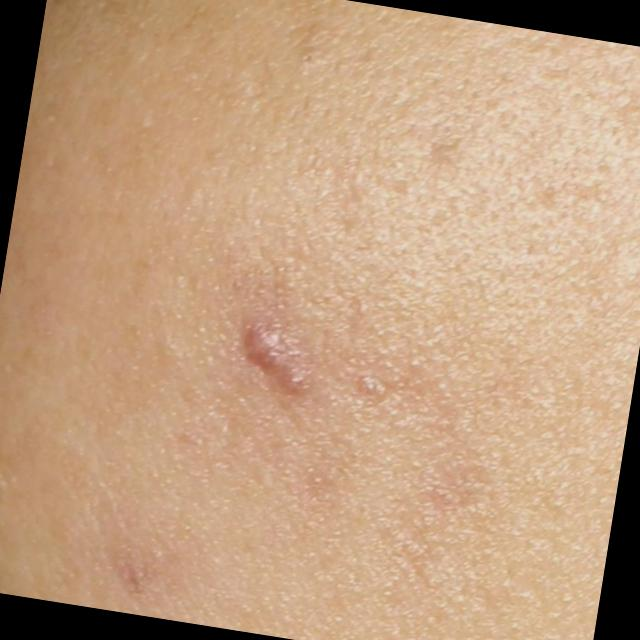nodule: (235, 318, 328, 407)
